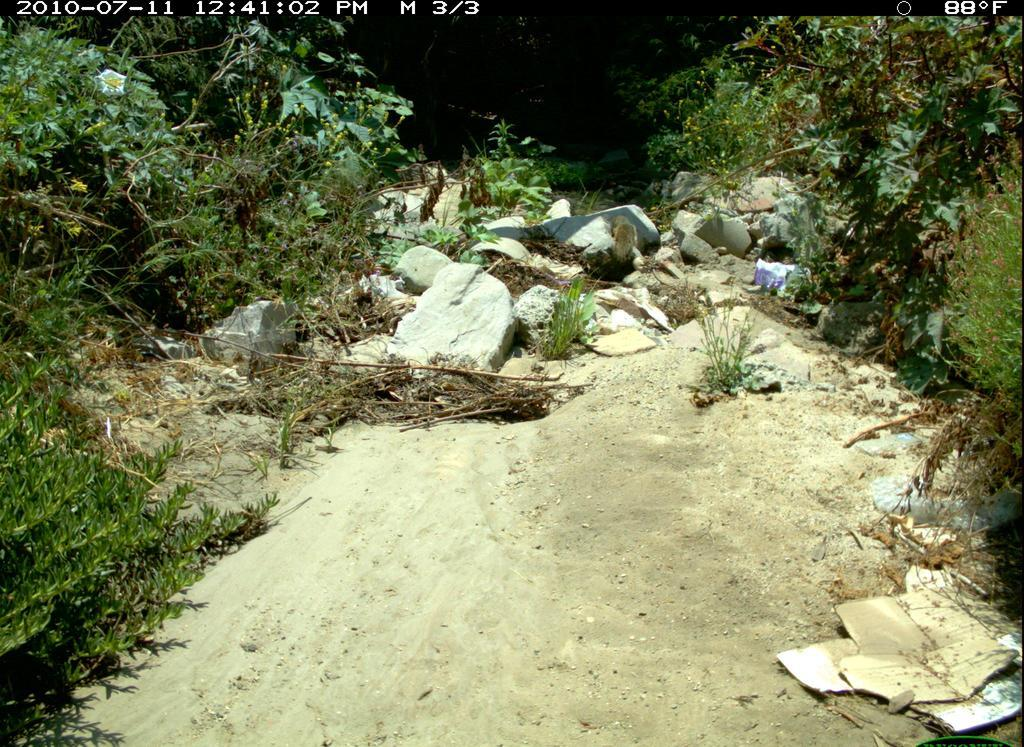squirrel: (603, 204, 646, 273)
